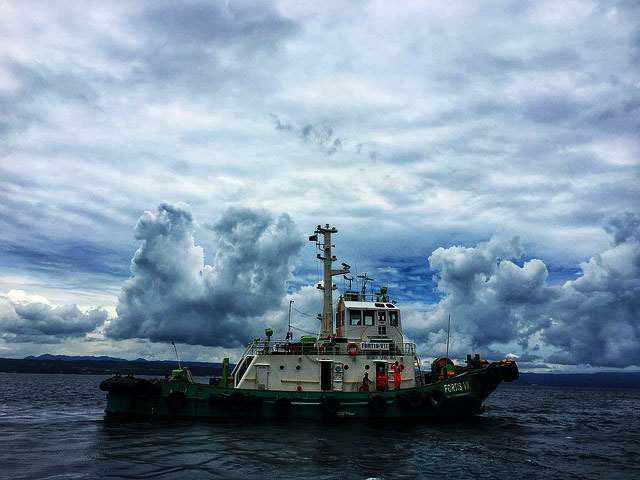tug_boat: (94, 222, 520, 425)
